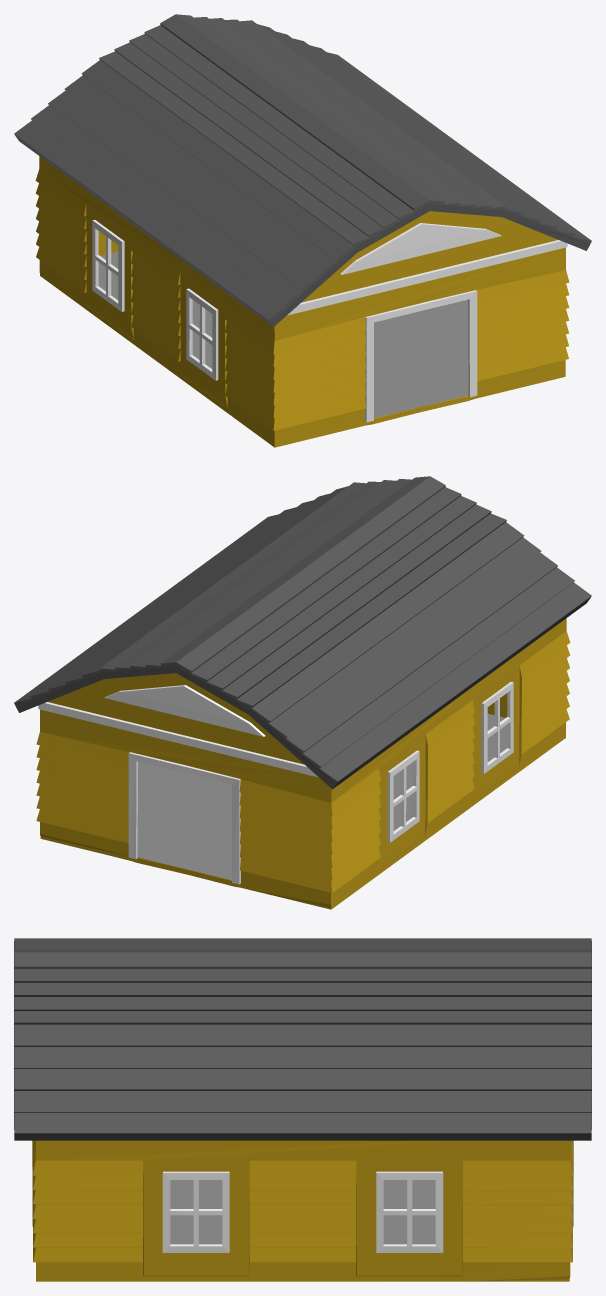
File: 058 Warehouse_2.FBX
The picture shows the model from 3 angles, top to bottom: view 1: azimuth 30°, elevation 25°; view 2: azimuth 150°, elevation 25°; view 3: azimuth 270°, elevation 25°; orthographic projection. The views are drawn at different scales.
Visible parts, largest first — view 1: Box095; view 2: Box095; view 3: Box095.
Part boxes in pixels (<box>): Box095: <box>14,14,591,447</box>; Box095: <box>14,476,591,909</box>; Box095: <box>14,938,591,1281</box>.
Size of the model in its own units: 557 by 361 by 758.
